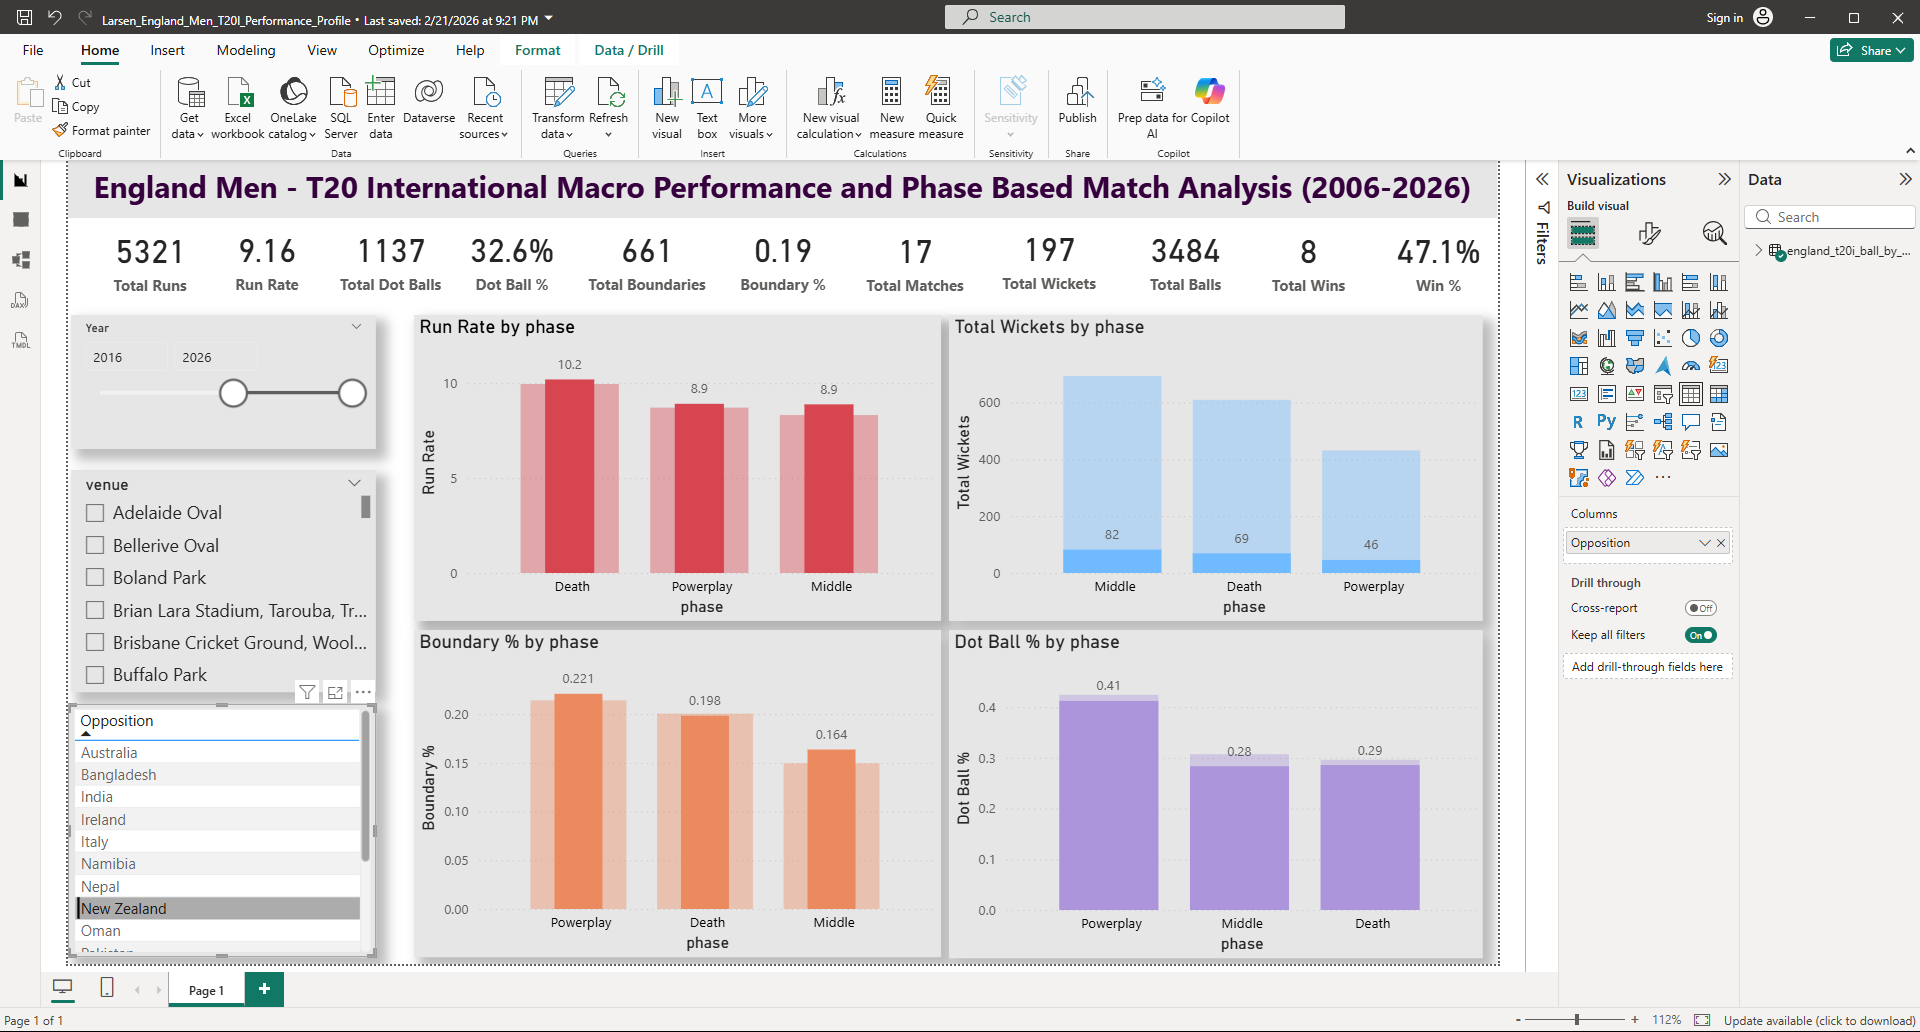

This screenshot's page, from the dashboard's own definition file:
{"tool":"powerbi","page":{"name":"Page 1","canvas":[1280,720],"ordinal":0},"visuals":[{"type":"card","fields":{"Values":["england_t20i_ball_by_ball_clean.Total Balls"]},"box":[943.9,51.9,113.7,71.6],"z":0},{"type":"card","fields":{"Values":["england_t20i_ball_by_ball_clean.Total Boundaries"]},"box":[459.4,51.9,118.2,71.6],"z":1000},{"type":"card","fields":{"Values":["england_t20i_ball_by_ball_clean.Total Dot Balls"]},"box":[231.9,51.9,113.7,71.6],"z":2000},{"type":"card","fields":{"Values":["england_t20i_ball_by_ball_clean.Total Runs"]},"box":[22.4,51.9,102.1,73.4],"z":3000},{"type":"card","fields":{"Values":["england_t20i_ball_by_ball_clean.Total Wickets"]},"box":[823.9,51.9,109.3,69.9],"z":4000},{"type":"card","fields":{"Values":["england_t20i_ball_by_ball_clean.Dot Ball %"]},"box":[345.7,51.9,103.9,71.6],"z":5000},{"type":"card","fields":{"Values":["england_t20i_ball_by_ball_clean.Boundary %"]},"box":[585.7,51.9,109.3,71.6],"z":6000},{"type":"slicer","fields":{"Values":["england_t20i_ball_by_ball_clean.venue"]},"box":[2.7,277.6,273.1,198.8],"z":7000},{"type":"clusteredColumnChart","fields":{"Category":["england_t20i_ball_by_ball_clean.phase"],"Y":["england_t20i_ball_by_ball_clean.Run Rate"]},"box":[309.9,138.8,471.9,274],"z":8000},{"type":"card","fields":{"Values":["england_t20i_ball_by_ball_clean.Run Rate"]},"box":[124.5,51.9,107.5,71.6],"z":9000},{"type":"clusteredColumnChart","fields":{"Category":["england_t20i_ball_by_ball_clean.phase"],"Y":["england_t20i_ball_by_ball_clean.Boundary %"]},"box":[309.9,420.9,471.9,292.8],"z":10000},{"type":"clusteredColumnChart","fields":{"Category":["england_t20i_ball_by_ball_clean.phase"],"Y":["england_t20i_ball_by_ball_clean.Total Wickets"]},"box":[789,138.8,478.2,274],"z":11000},{"type":"clusteredColumnChart","fields":{"Category":["england_t20i_ball_by_ball_clean.phase"],"Y":["england_t20i_ball_by_ball_clean.Dot Ball %"]},"box":[789,420.9,478.2,293.7],"z":12000},{"type":"tableEx","fields":{"Values":["england_t20i_ball_by_ball_clean.Opposition"]},"box":[0,487.2,275.8,226.6],"z":13000},{"type":"slicer","fields":{"Values":["england_t20i_ball_by_ball_clean.Year"]},"box":[2.7,138.8,273.1,120],"z":14000},{"type":"card","fields":{"Values":["england_t20i_ball_by_ball_clean.Total Matches"]},"box":[704.8,51.9,107.5,73.4],"z":15000},{"type":"card","fields":{"Values":["england_t20i_ball_by_ball_clean.Total Wins"]},"box":[1057.6,51.9,106.6,73.4],"z":16000},{"type":"card","fields":{"Values":["england_t20i_ball_by_ball_clean.Win %"]},"box":[1174.9,51.9,104.8,73.4],"z":17000},{"type":"textbox","box":[0,0,1279.7,51.9],"z":17001}]}

Visuals, with their boxes on the page's 1280x720 design canvas (x1, y1, x2, y2). These are canvas units, not pixel positions in the 1920x1032 screenshot, which may show the page scaled, cropped or inside an application window:
card - england_t20i_ball_by_ball_clean.Total Balls: rect(944, 52, 1058, 124)
card - england_t20i_ball_by_ball_clean.Total Boundaries: rect(459, 52, 578, 124)
card - england_t20i_ball_by_ball_clean.Total Dot Balls: rect(232, 52, 346, 124)
card - england_t20i_ball_by_ball_clean.Total Runs: rect(22, 52, 124, 125)
card - england_t20i_ball_by_ball_clean.Total Wickets: rect(824, 52, 933, 122)
card - england_t20i_ball_by_ball_clean.Dot Ball %: rect(346, 52, 450, 124)
card - england_t20i_ball_by_ball_clean.Boundary %: rect(586, 52, 695, 124)
slicer - england_t20i_ball_by_ball_clean.venue: rect(3, 278, 276, 476)
clusteredColumnChart - england_t20i_ball_by_ball_clean.phase x england_t20i_ball_by_ball_clean.Run Rate: rect(310, 139, 782, 413)
card - england_t20i_ball_by_ball_clean.Run Rate: rect(124, 52, 232, 124)
clusteredColumnChart - england_t20i_ball_by_ball_clean.phase x england_t20i_ball_by_ball_clean.Boundary %: rect(310, 421, 782, 714)
clusteredColumnChart - england_t20i_ball_by_ball_clean.phase x england_t20i_ball_by_ball_clean.Total Wickets: rect(789, 139, 1267, 413)
clusteredColumnChart - england_t20i_ball_by_ball_clean.phase x england_t20i_ball_by_ball_clean.Dot Ball %: rect(789, 421, 1267, 715)
tableEx - england_t20i_ball_by_ball_clean.Opposition: rect(0, 487, 276, 714)
slicer - england_t20i_ball_by_ball_clean.Year: rect(3, 139, 276, 259)
card - england_t20i_ball_by_ball_clean.Total Matches: rect(705, 52, 812, 125)
card - england_t20i_ball_by_ball_clean.Total Wins: rect(1058, 52, 1164, 125)
card - england_t20i_ball_by_ball_clean.Win %: rect(1175, 52, 1280, 125)
textbox: rect(0, 0, 1280, 52)
